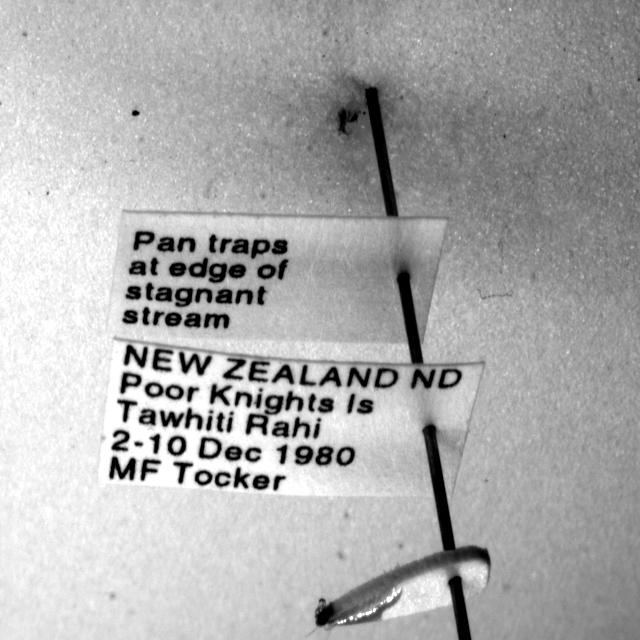typed_label: (99, 339, 484, 497), (109, 210, 446, 343)
